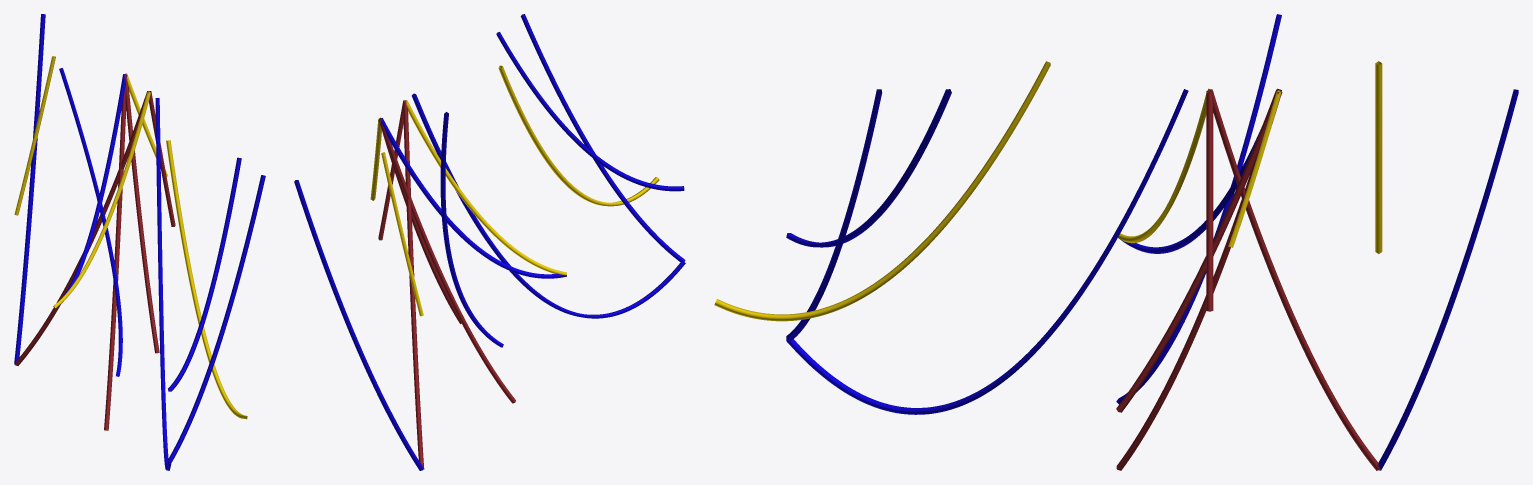
The model's file is Pipes_2 1.fbx.
3 renders of one model, left to right at view 1: azimuth 30°, elevation 25°; view 2: azimuth 150°, elevation 25°; view 3: azimuth 270°, elevation 25°, orthographic. The views are drawn at different scales.
Visible parts, largest first — view 1: Catenary.067, Catenary.047, Catenary.065, Catenary.045, Catenary.066, Catenary.040, Catenary.044, Catenary.064, Catenary.046, Catenary.039, Catenary.041, Catenary.048 (+2 smaller); view 2: Catenary.067, Catenary.046, Catenary.047, Catenary.045, Catenary.065, Catenary.040, Catenary.064, Catenary.039, Catenary.066, Catenary.041, Catenary.048, Catenary.044 (+2 smaller); view 3: Catenary.067, Catenary.066, Catenary.046, Catenary.047, Catenary.044, Catenary.045, Catenary.065, Catenary.042, Catenary.040, Catenary.064, Catenary.048, Catenary.041 (+2 smaller).
Boxes of the visible parts, left/top/right/bottom form: Catenary.067: left=155, top=98, right=171, bottom=470; Catenary.047: left=14, top=14, right=45, bottom=364; Catenary.065: left=167, top=175, right=265, bottom=462; Catenary.045: left=104, top=74, right=126, bottom=430; Catenary.066: left=166, top=140, right=247, bottom=419; Catenary.040: left=59, top=68, right=122, bottom=376; Catenary.044: left=123, top=74, right=159, bottom=353; Catenary.064: left=168, top=157, right=241, bottom=391; Catenary.046: left=15, top=91, right=151, bottom=365; Catenary.039: left=53, top=74, right=127, bottom=308; Catenary.041: left=54, top=91, right=150, bottom=308; Catenary.048: left=14, top=56, right=55, bottom=215; Catenary.067: left=411, top=93, right=685, bottom=318; Catenary.046: left=403, top=101, right=424, bottom=469; Catenary.047: left=294, top=180, right=423, bottom=470; Catenary.045: left=378, top=118, right=515, bottom=403; Catenary.065: left=520, top=14, right=685, bottom=262; Catenary.040: left=440, top=112, right=503, bottom=347; Catenary.064: left=496, top=32, right=684, bottom=191; Catenary.039: left=379, top=118, right=566, bottom=278; Catenary.066: left=498, top=65, right=659, bottom=206; Catenary.041: left=404, top=100, right=566, bottom=275; Catenary.048: left=381, top=152, right=423, bottom=316; Catenary.044: left=379, top=118, right=461, bottom=323; Catenary.067: left=786, top=89, right=1188, bottom=414; Catenary.066: left=714, top=61, right=1050, bottom=321; Catenary.046: left=1207, top=89, right=1380, bottom=470; Catenary.047: left=1378, top=89, right=1518, bottom=470; Catenary.044: left=1116, top=89, right=1282, bottom=412; Catenary.045: left=1116, top=89, right=1281, bottom=470; Catenary.065: left=786, top=89, right=882, bottom=340; Catenary.042: left=1206, top=90, right=1213, bottom=311; Catenary.040: left=1116, top=14, right=1281, bottom=404; Catenary.064: left=786, top=89, right=951, bottom=247; Catenary.048: left=1375, top=61, right=1382, bottom=253; Catenary.041: left=1118, top=88, right=1212, bottom=243.
Bounding box in the file's own units: 445 × 887 × 1395.
